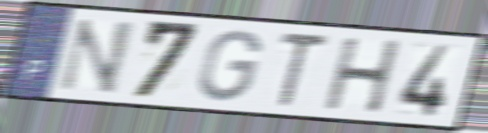4: (394, 41, 451, 120)
7: (132, 18, 202, 101)
G: (196, 27, 265, 104)
H: (322, 36, 405, 115)
N: (54, 17, 137, 96)
T: (272, 29, 332, 110)
